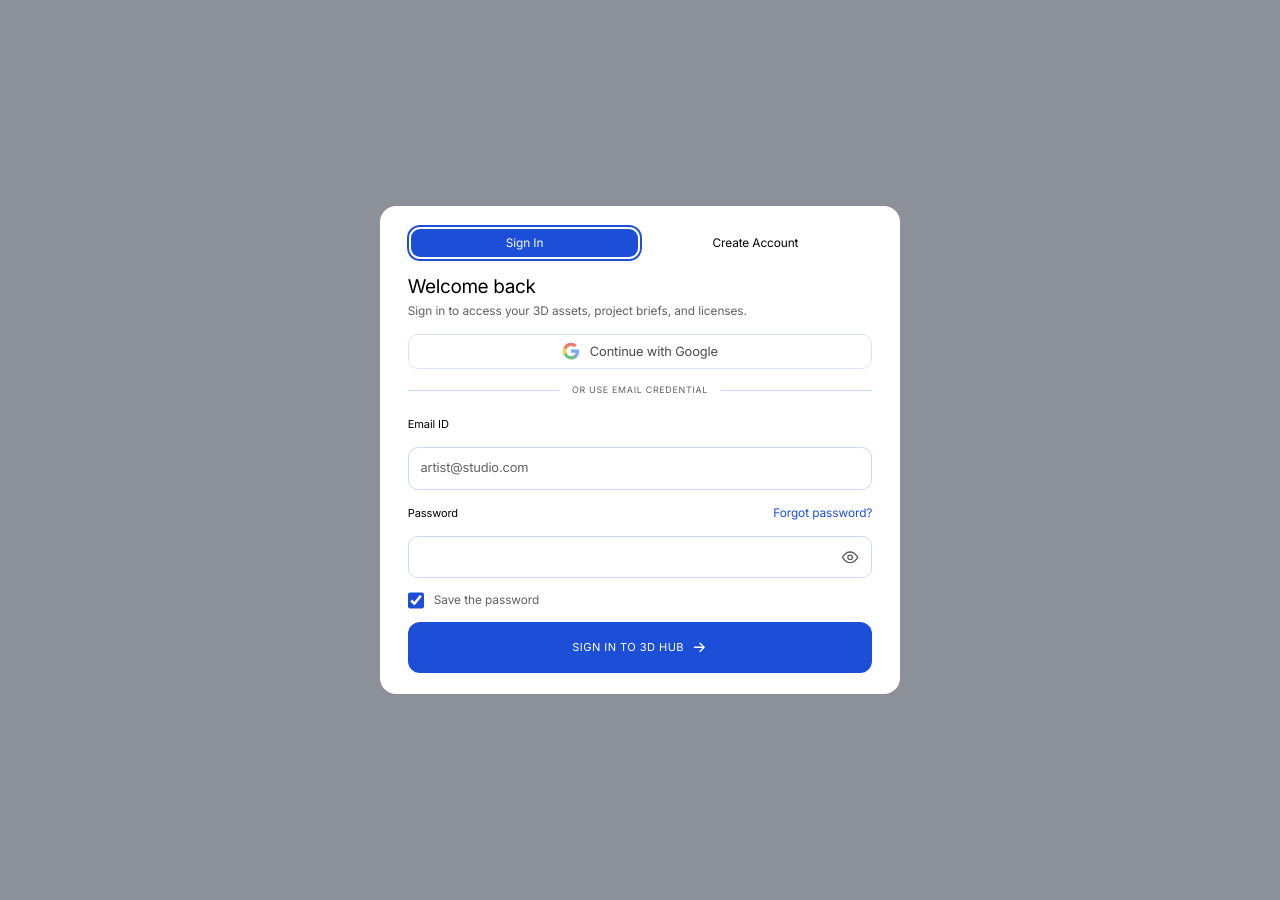
Test: AuthModal › switches between login and register tabs
What coordinates should you click on to do the following:
click the button "Create Account"
I would click on:
 (755, 243)
Its box is [642, 229, 869, 257].
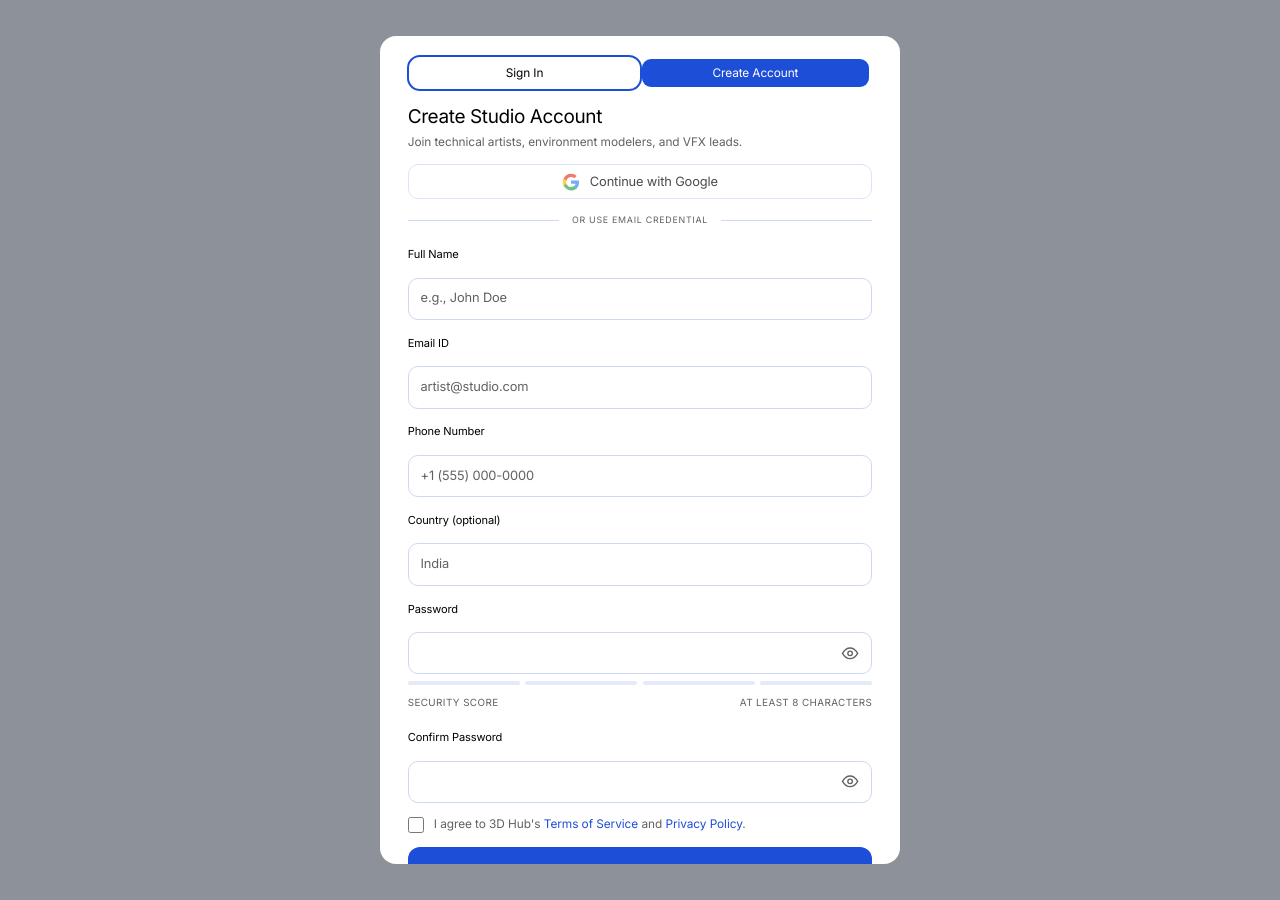
Expected: the heading "Create Studio Account" is shown, [408, 105, 602, 128]
